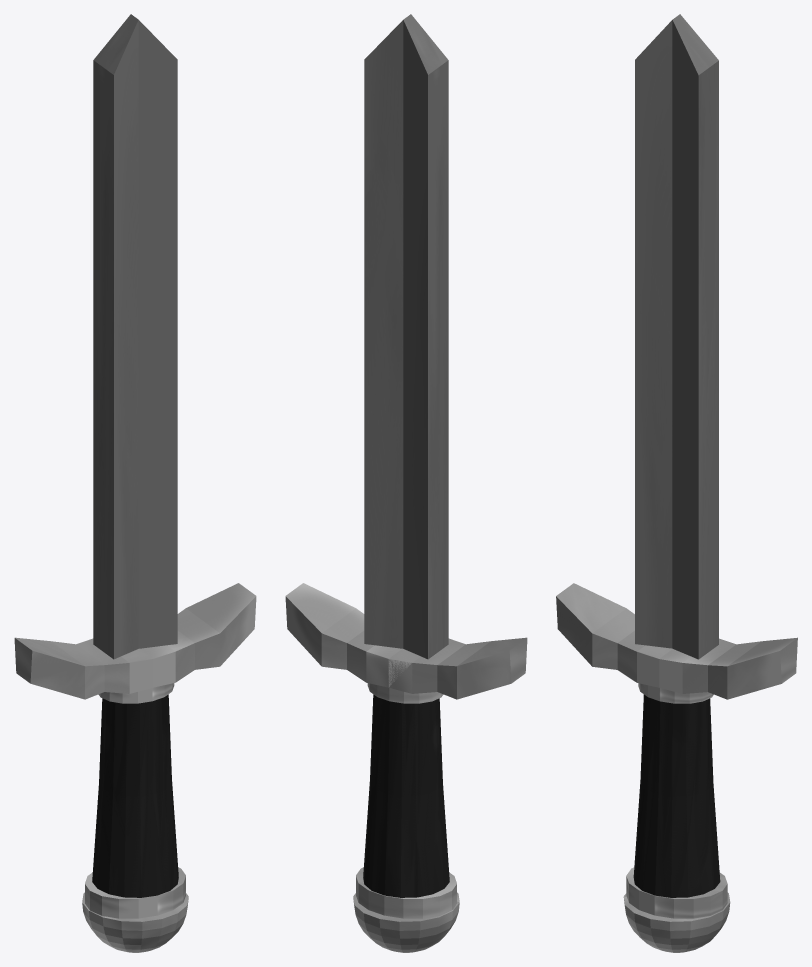
The model's file is Sword.fbx.
3 views of the same model, side by side, from view 1: azimuth 30°, elevation 25°; view 2: azimuth 150°, elevation 25°; view 3: azimuth 330°, elevation 25° (orthographic).
Parts seen in each view (by area): view 1: Cube.001, Cylinder, Cube, Sphere, Cylinder.001, Cylinder.002; view 2: Cube.001, Cylinder, Cube, Sphere, Cylinder.001, Cylinder.002; view 3: Cube.001, Cylinder, Cube, Sphere, Cylinder.001, Cylinder.002.
Part boxes in pixels (x1,y1,x2,y2): Cube.001: [93, 14, 177, 659]; Cylinder: [92, 694, 178, 897]; Cube: [14, 583, 256, 699]; Sphere: [82, 892, 188, 952]; Cylinder.001: [85, 867, 185, 918]; Cylinder.002: [98, 683, 174, 703]; Cube.001: [364, 14, 448, 659]; Cylinder: [363, 694, 449, 897]; Cube: [285, 583, 527, 699]; Sphere: [353, 892, 459, 952]; Cylinder.001: [356, 867, 456, 918]; Cylinder.002: [367, 683, 443, 703]; Cube.001: [635, 14, 718, 659]; Cylinder: [633, 694, 720, 897]; Cube: [556, 583, 797, 699]; Sphere: [623, 892, 730, 952]; Cylinder.001: [626, 867, 727, 918]; Cylinder.002: [638, 683, 713, 703].
Bounding box in the file's own units: 187 × 743 × 77.76.
